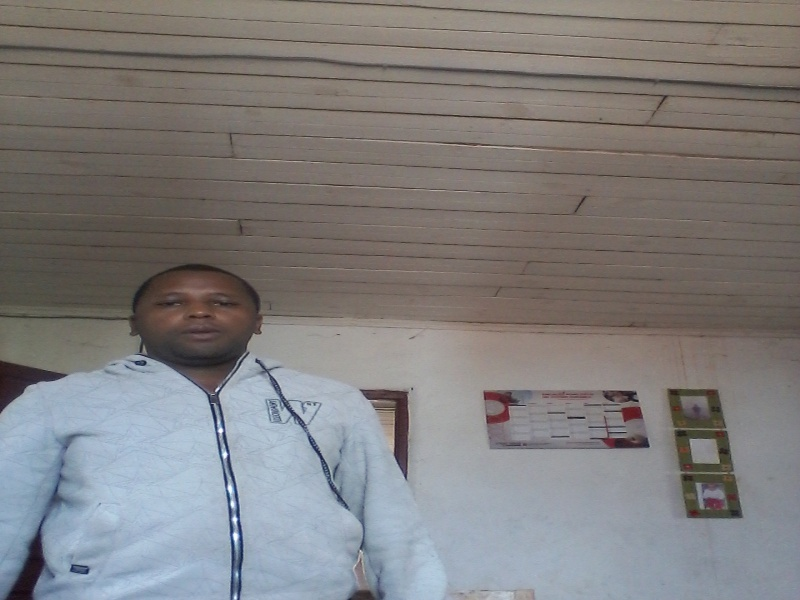TsisyArotava: (123, 256, 275, 372)
